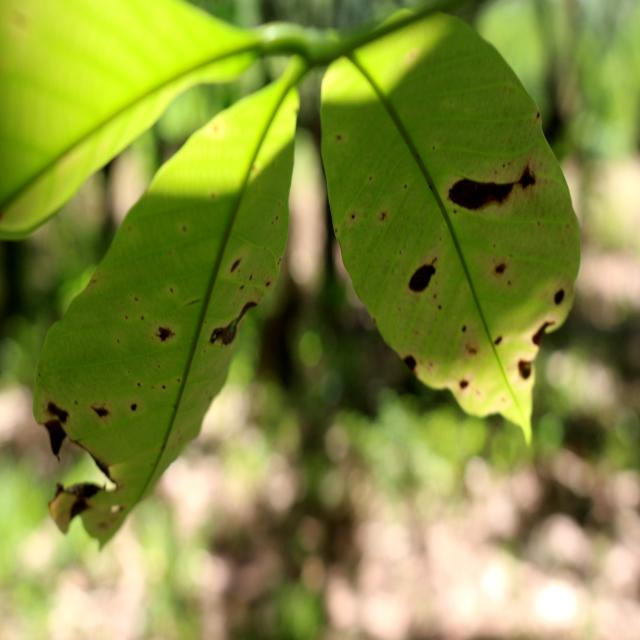Colletotrichum: (408, 263, 435, 294), (554, 290, 564, 306)
